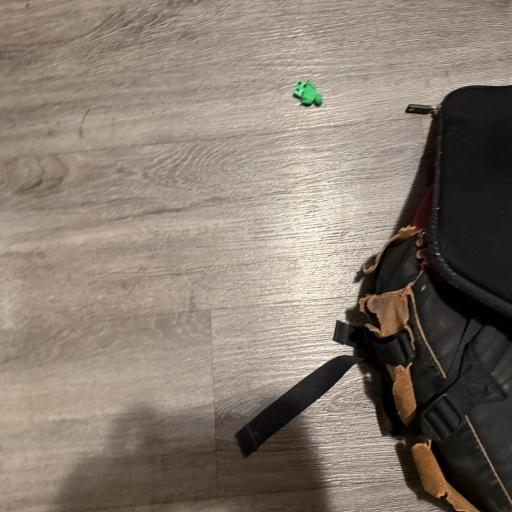Minifig: (293, 80, 322, 105)
